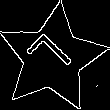L_SE: (24, 29, 81, 87)
